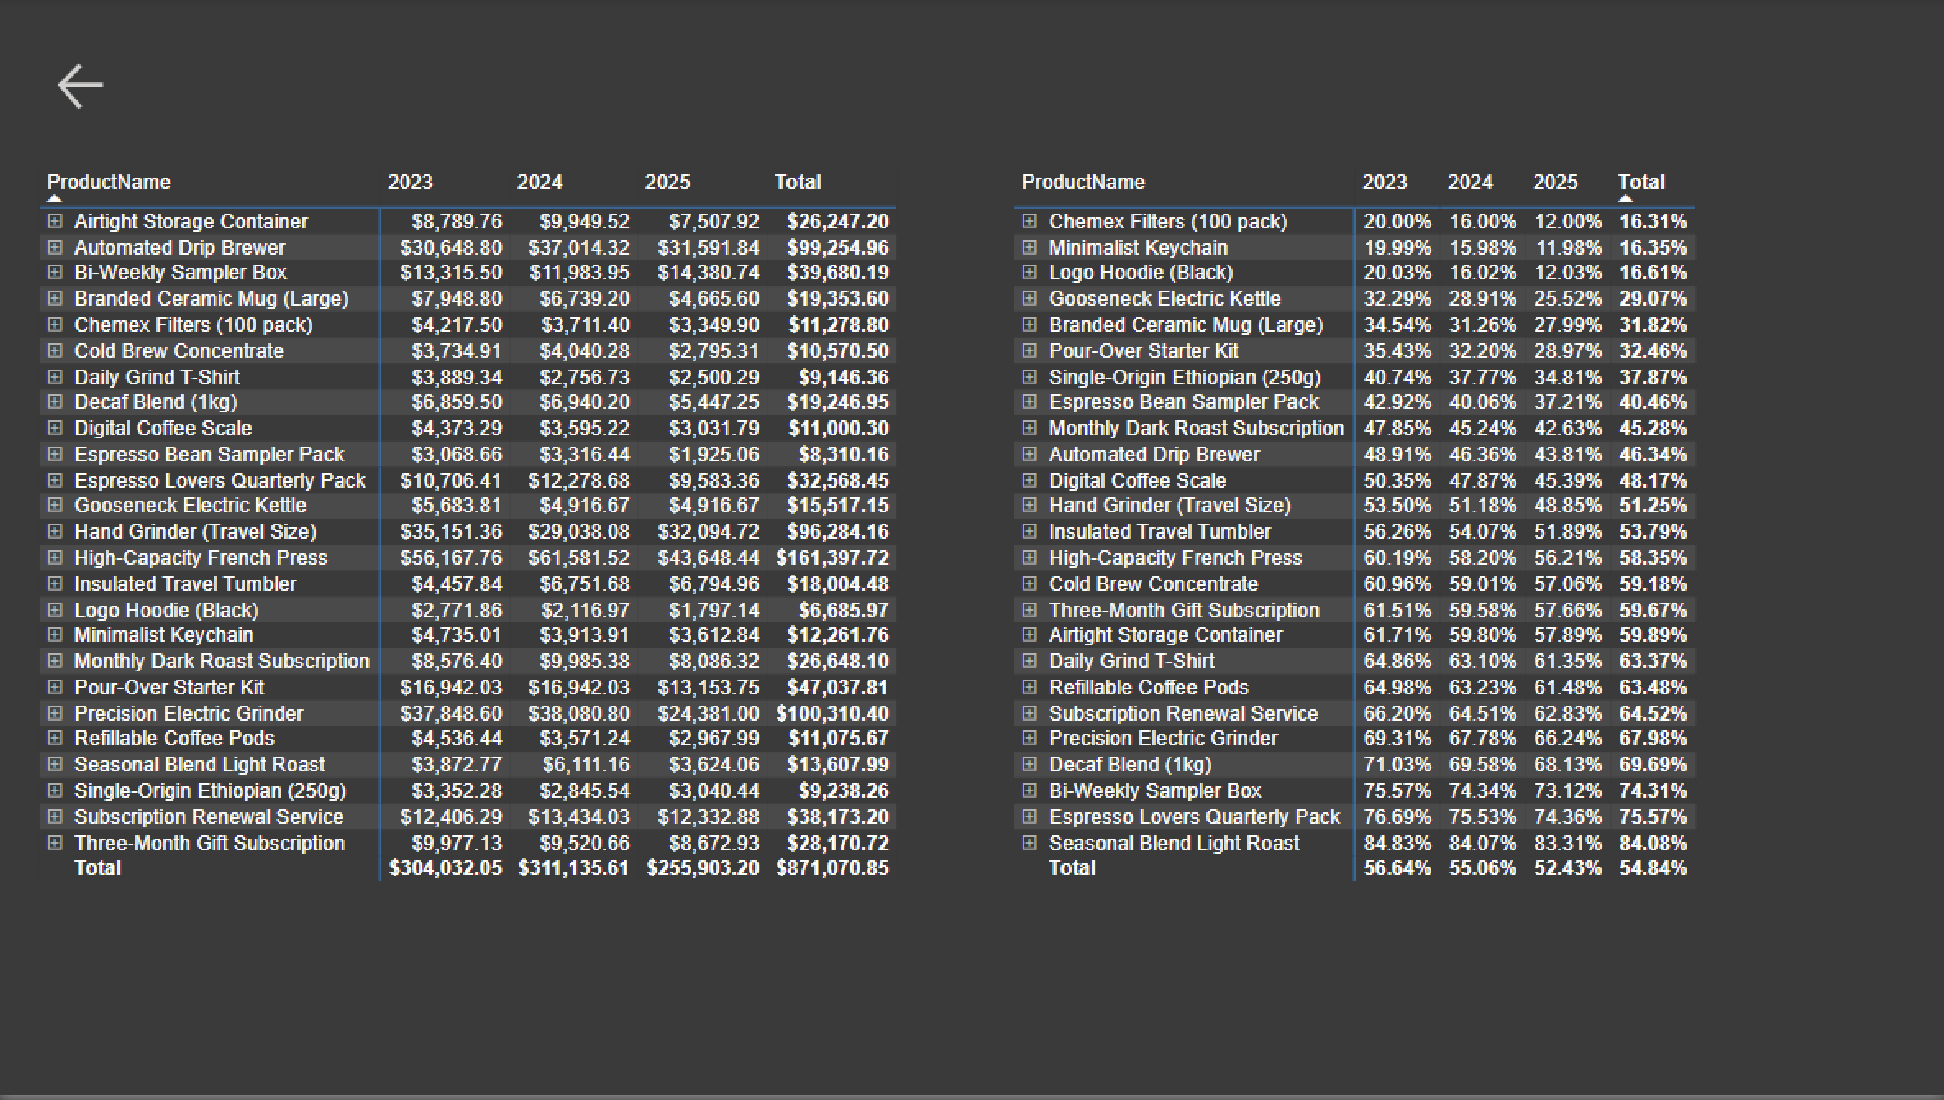

This screenshot's page, from the dashboard's own definition file:
{"tool":"powerbi","page":{"name":"Page 2","canvas":[1280,720],"ordinal":1},"visuals":[{"type":"pivotTable","fields":{"Rows":["Query1.ProductName","Query1.OrderDate.Variation.Date Hierarchy.Year","Query1.OrderDate.Variation.Date Hierarchy.Quarter","Query1.OrderDate.Variation.Date Hierarchy.Month","Query1.OrderDate.Variation.Date Hierarchy.Day","Query1.CustomerJoinDate.Variation.Date Hierarchy.Year"],"Values":["Sum(Query1.CleanedRevenue)"],"Columns":["Query1.OrderDate.Variation.Date Hierarchy.Year","Query1.OrderDate.Variation.Date Hierarchy.Quarter","Query1.OrderDate.Variation.Date Hierarchy.Month","Query1.OrderDate.Variation.Date Hierarchy.Day"]},"box":[22.6,106.7,617.4,538.7],"z":0},{"type":"pivotTable","fields":{"Rows":["Query1.ProductName","Query1.OrderDate.Variation.Date Hierarchy.Year","Query1.OrderDate.Variation.Date Hierarchy.Quarter","Query1.OrderDate.Variation.Date Hierarchy.Month","Query1.OrderDate.Variation.Date Hierarchy.Day","Query1.CustomerJoinDate.Variation.Date Hierarchy.Year"],"Values":["Query1.Margin"],"Columns":["Query1.OrderDate.Variation.Date Hierarchy.Year","Query1.OrderDate.Variation.Date Hierarchy.Quarter","Query1.OrderDate.Variation.Date Hierarchy.Month","Query1.OrderDate.Variation.Date Hierarchy.Day"]},"box":[662.6,106.7,617.4,538.7],"z":1000},{"type":"actionButton","box":[35.6,37.7,100.2,39.9],"z":1001}]}

Visuals, with their boxes on the page's 1280x720 design canvas (x1, y1, x2, y2). These are canvas units, not pixel positions in the 1944x1100 screenshot, which may show the page scaled, cropped or inside an application window:
pivotTable - Query1.ProductName x Query1.OrderDate.Variation.Date Hierarchy.Year: detection(23, 107, 640, 645)
pivotTable - Query1.ProductName x Query1.OrderDate.Variation.Date Hierarchy.Year: detection(663, 107, 1280, 645)
actionButton: detection(36, 38, 136, 78)
